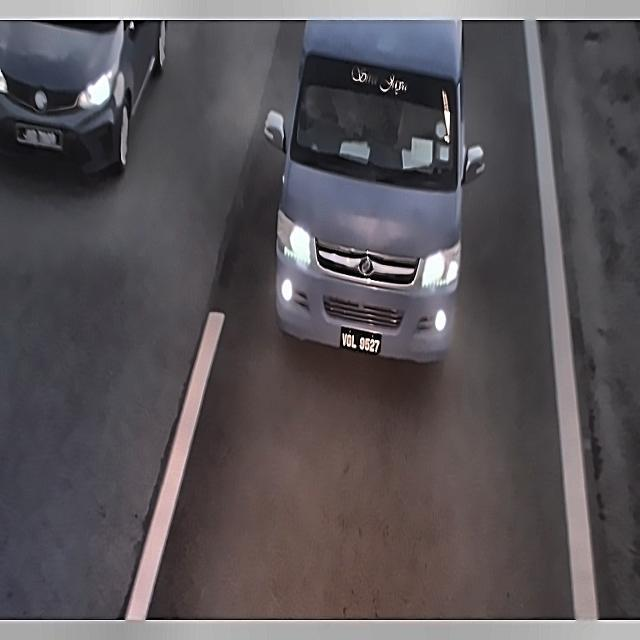car: (11, 120, 72, 164), (336, 315, 388, 365)
